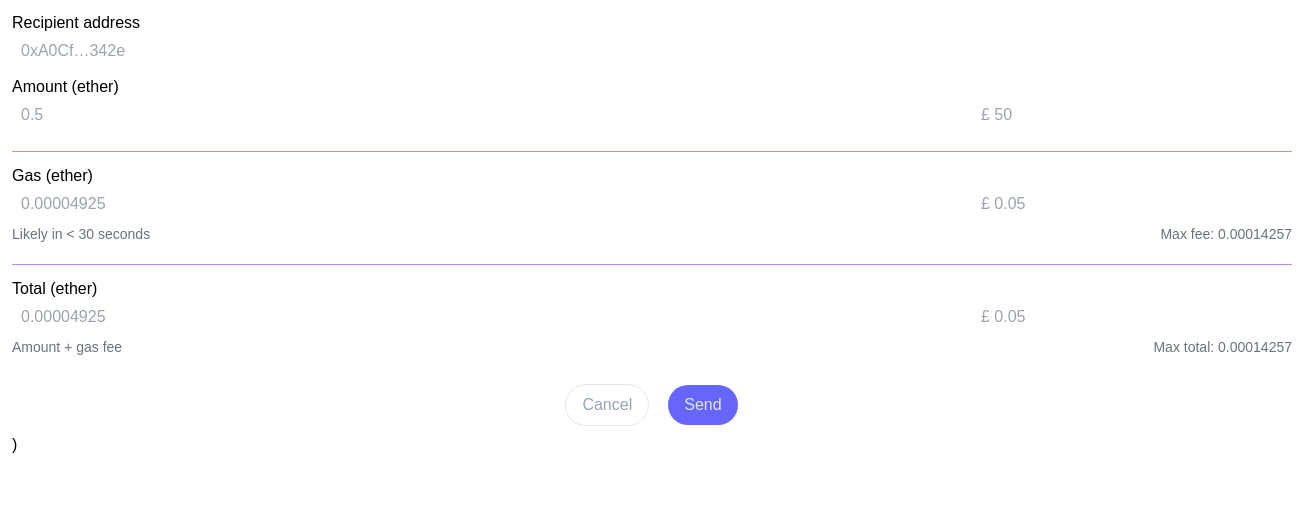
it: SendTransactionForm › Recipient address field › displays error message when address field is empty
Click the button "Send".
click(703, 405)  # box x1=668 y1=385 x2=738 y2=425
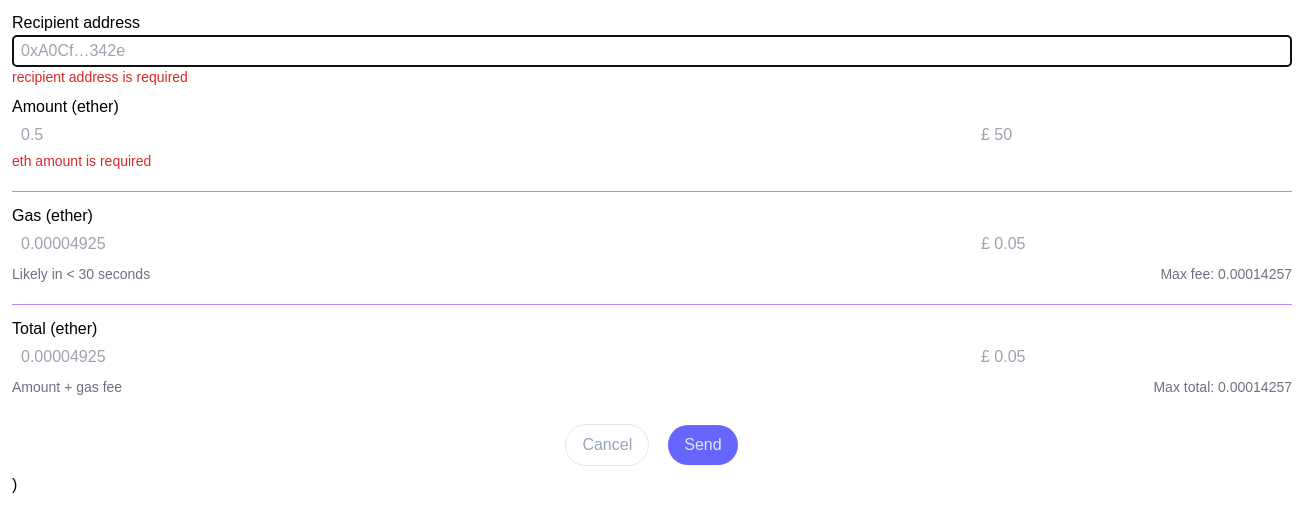
Now the text "recipient address is required" is shown, box x1=12 y1=69 x2=188 y2=85
